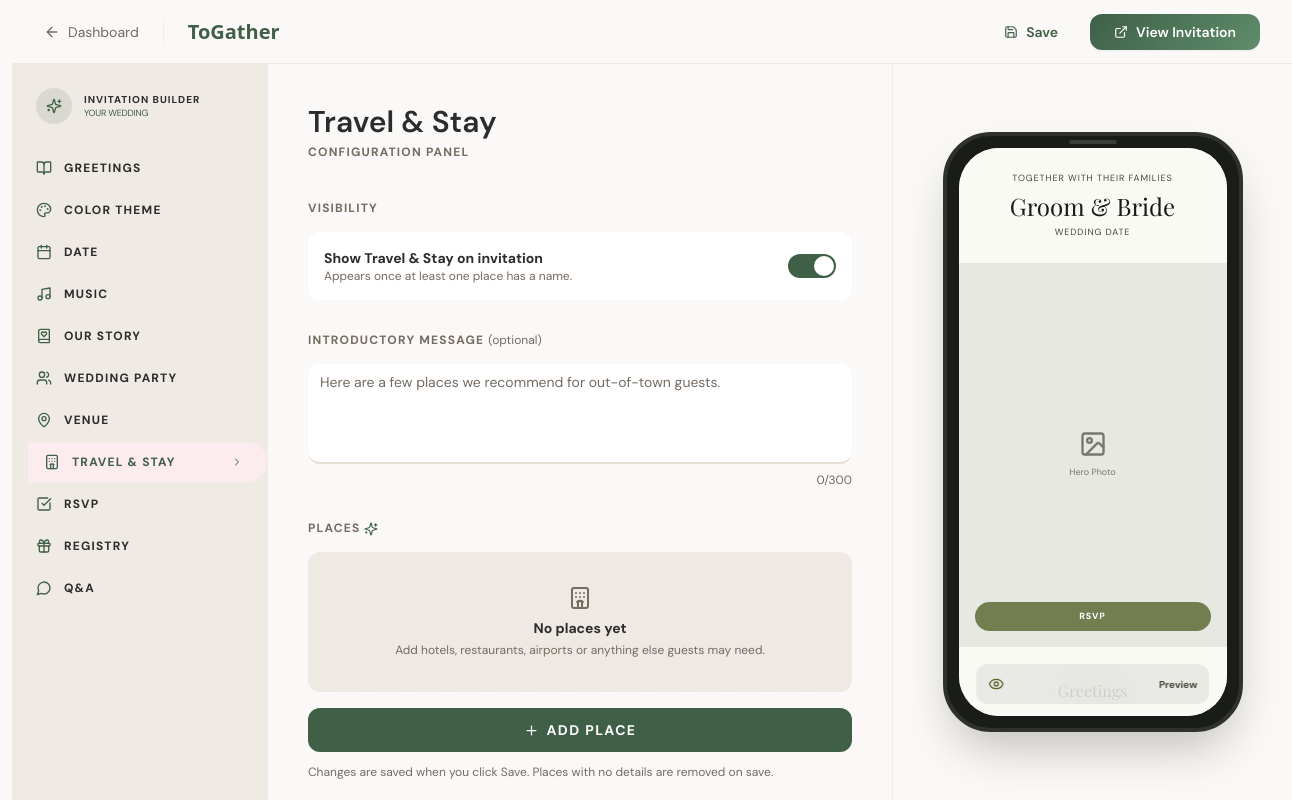
Test: Invitation Builder — Travel & Stay › blocks saving an unsafe link and a place without a name
Expected: the text "No places yet" is shown, [534,618,627,638]
Click the button "Add Place" at coordinates (580, 730), box [308,708,852,752]
(page scrolled)
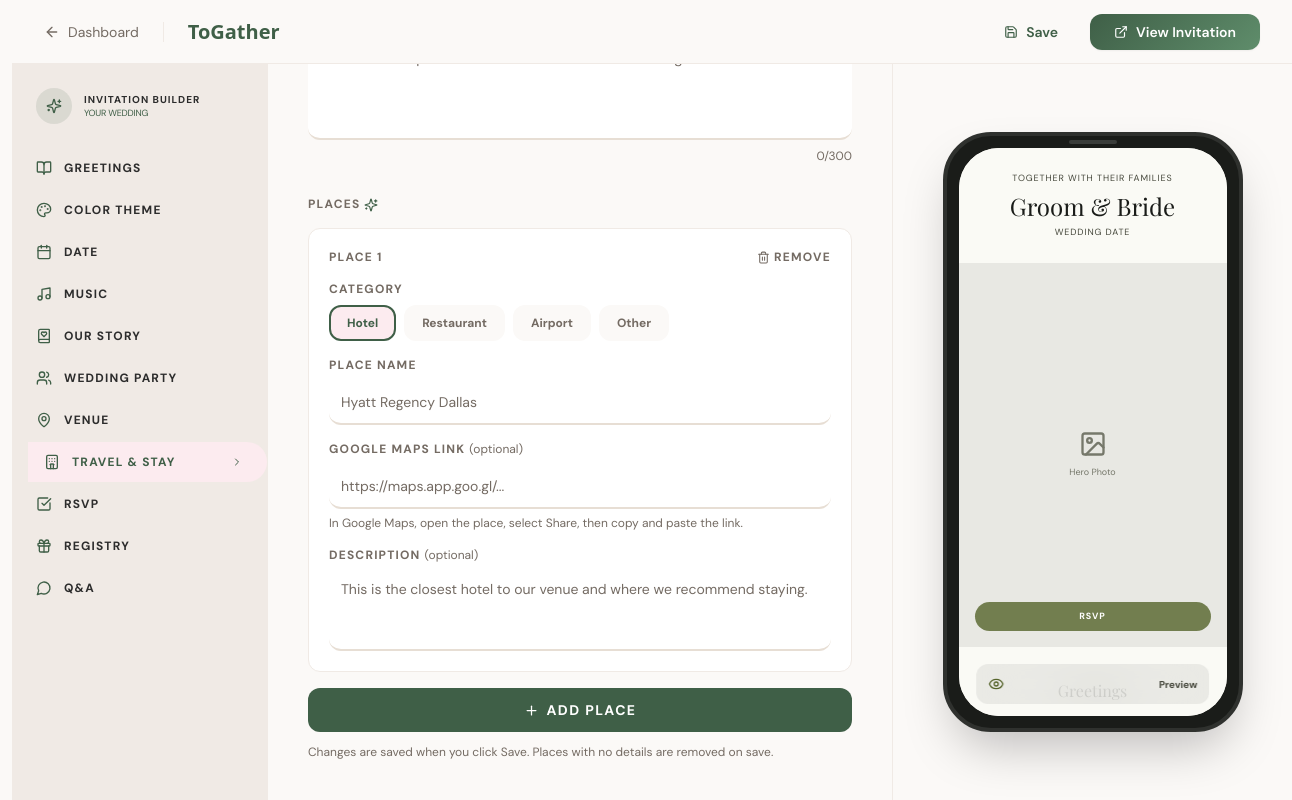
Type "javascript:alert(1)" into the field with placeholder "https://maps.app.goo.gl/..." at coordinates (580, 487), box [329,465,831,509]
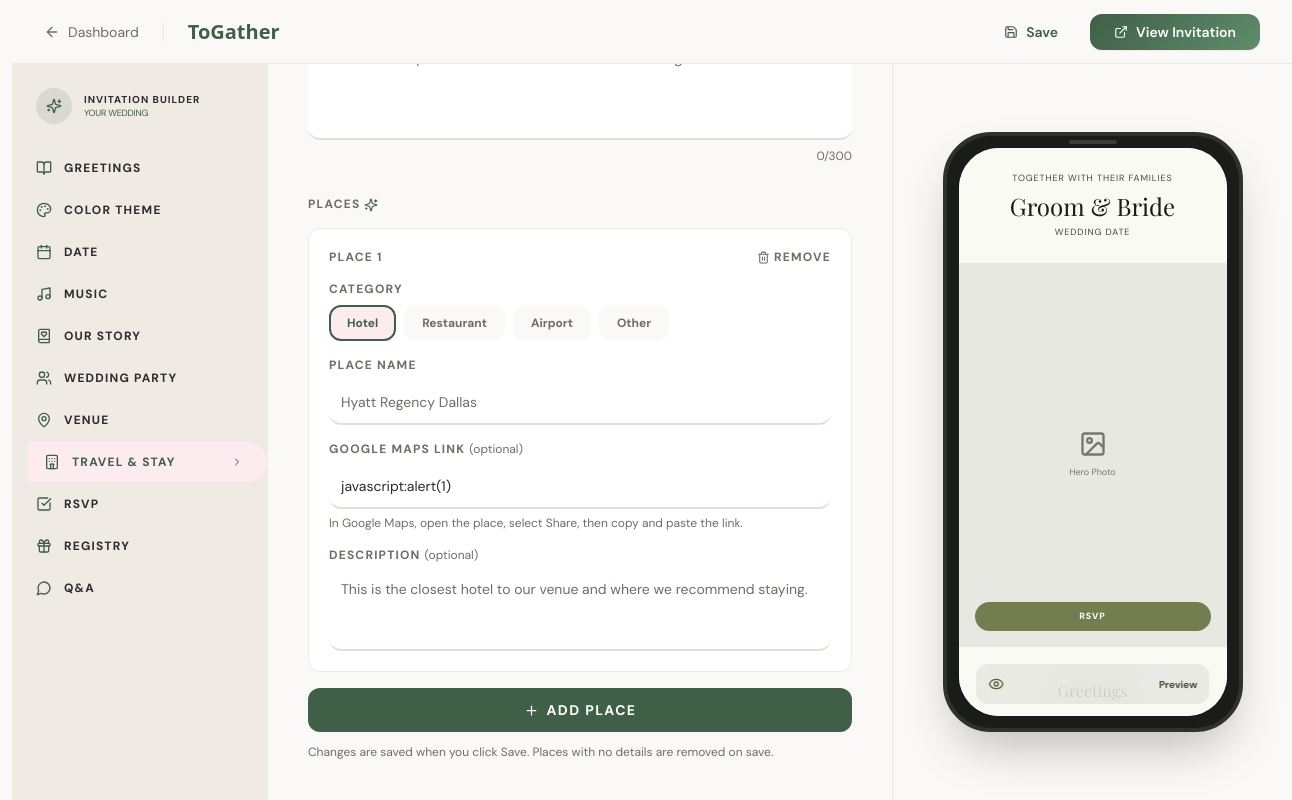
Leave the field with placeholder "https://maps.app.goo.gl/...", box [329,465,831,509]
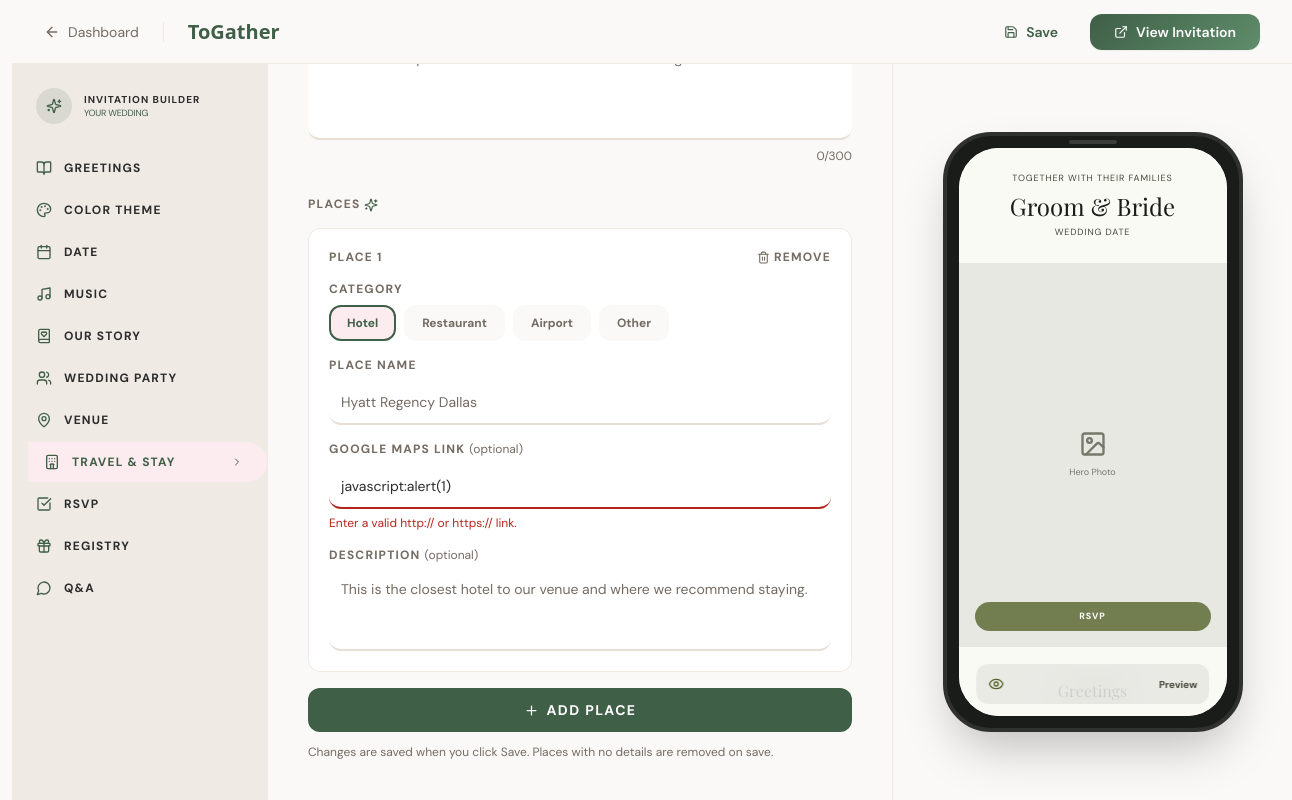
Expected: the text "Enter a valid http:// or https:// link." is shown, [329,515,517,531]
Click the button "Save" at coordinates (1031, 32), box [984,14,1078,50]
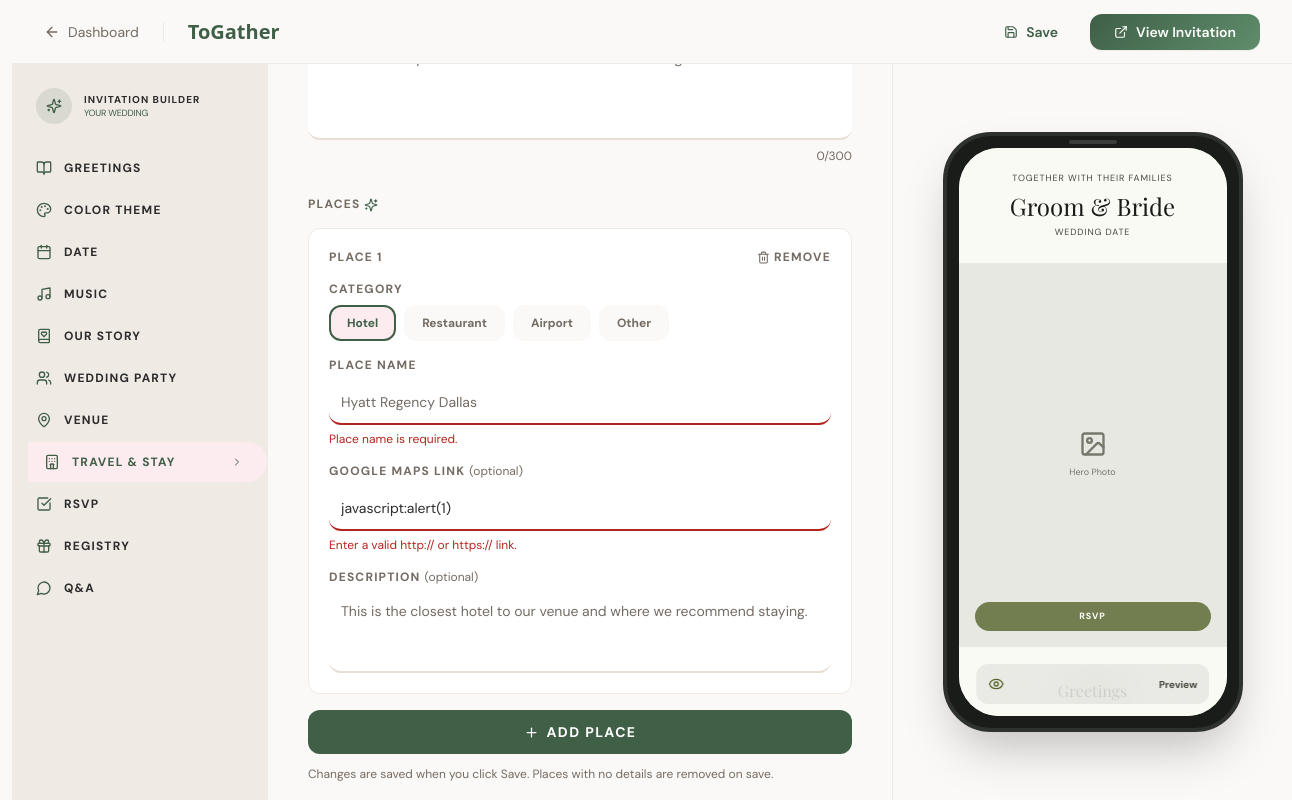
Expected: the text "Place name is required." is shown, [329,431,458,447]
